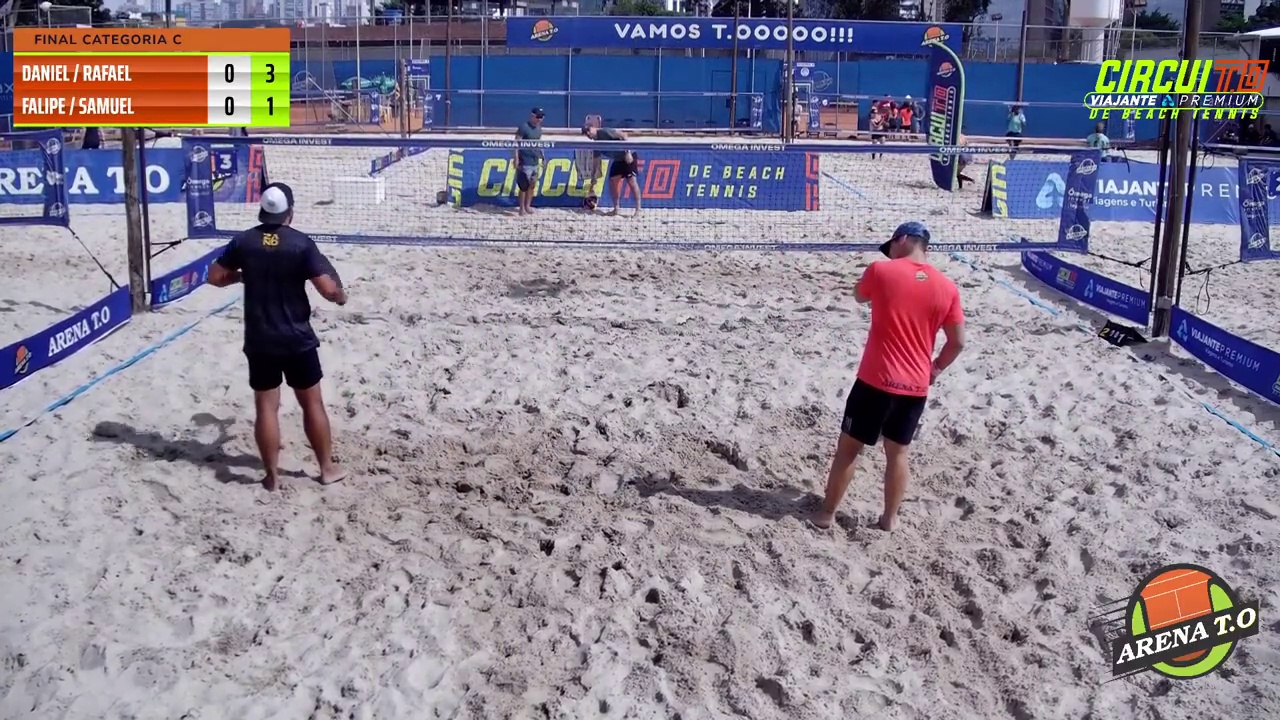court_line: (510, 0, 666, 547), (640, 0, 806, 431)
